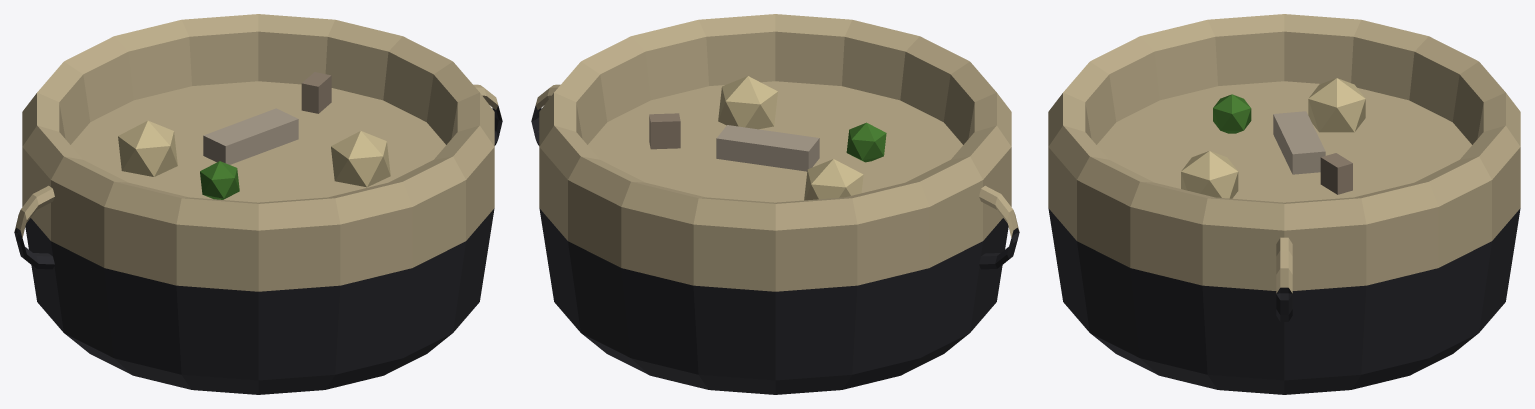
Rendered from Fish_Stew.glb.
3 renders of one model, left to right at view 1: azimuth 30°, elevation 25°; view 2: azimuth 150°, elevation 25°; view 3: azimuth 270°, elevation 25°, orthographic.
Visible parts, largest first — view 1: _I_FishStew; view 2: _I_FishStew; view 3: _I_FishStew.
Boxes of the visible parts, bbox=[...] form: _I_FishStew: bbox=[14, 14, 502, 394]; _I_FishStew: bbox=[531, 14, 1019, 394]; _I_FishStew: bbox=[1048, 14, 1520, 394].
Size of the model in its own units: 0.74 by 0.3 by 0.6303.
